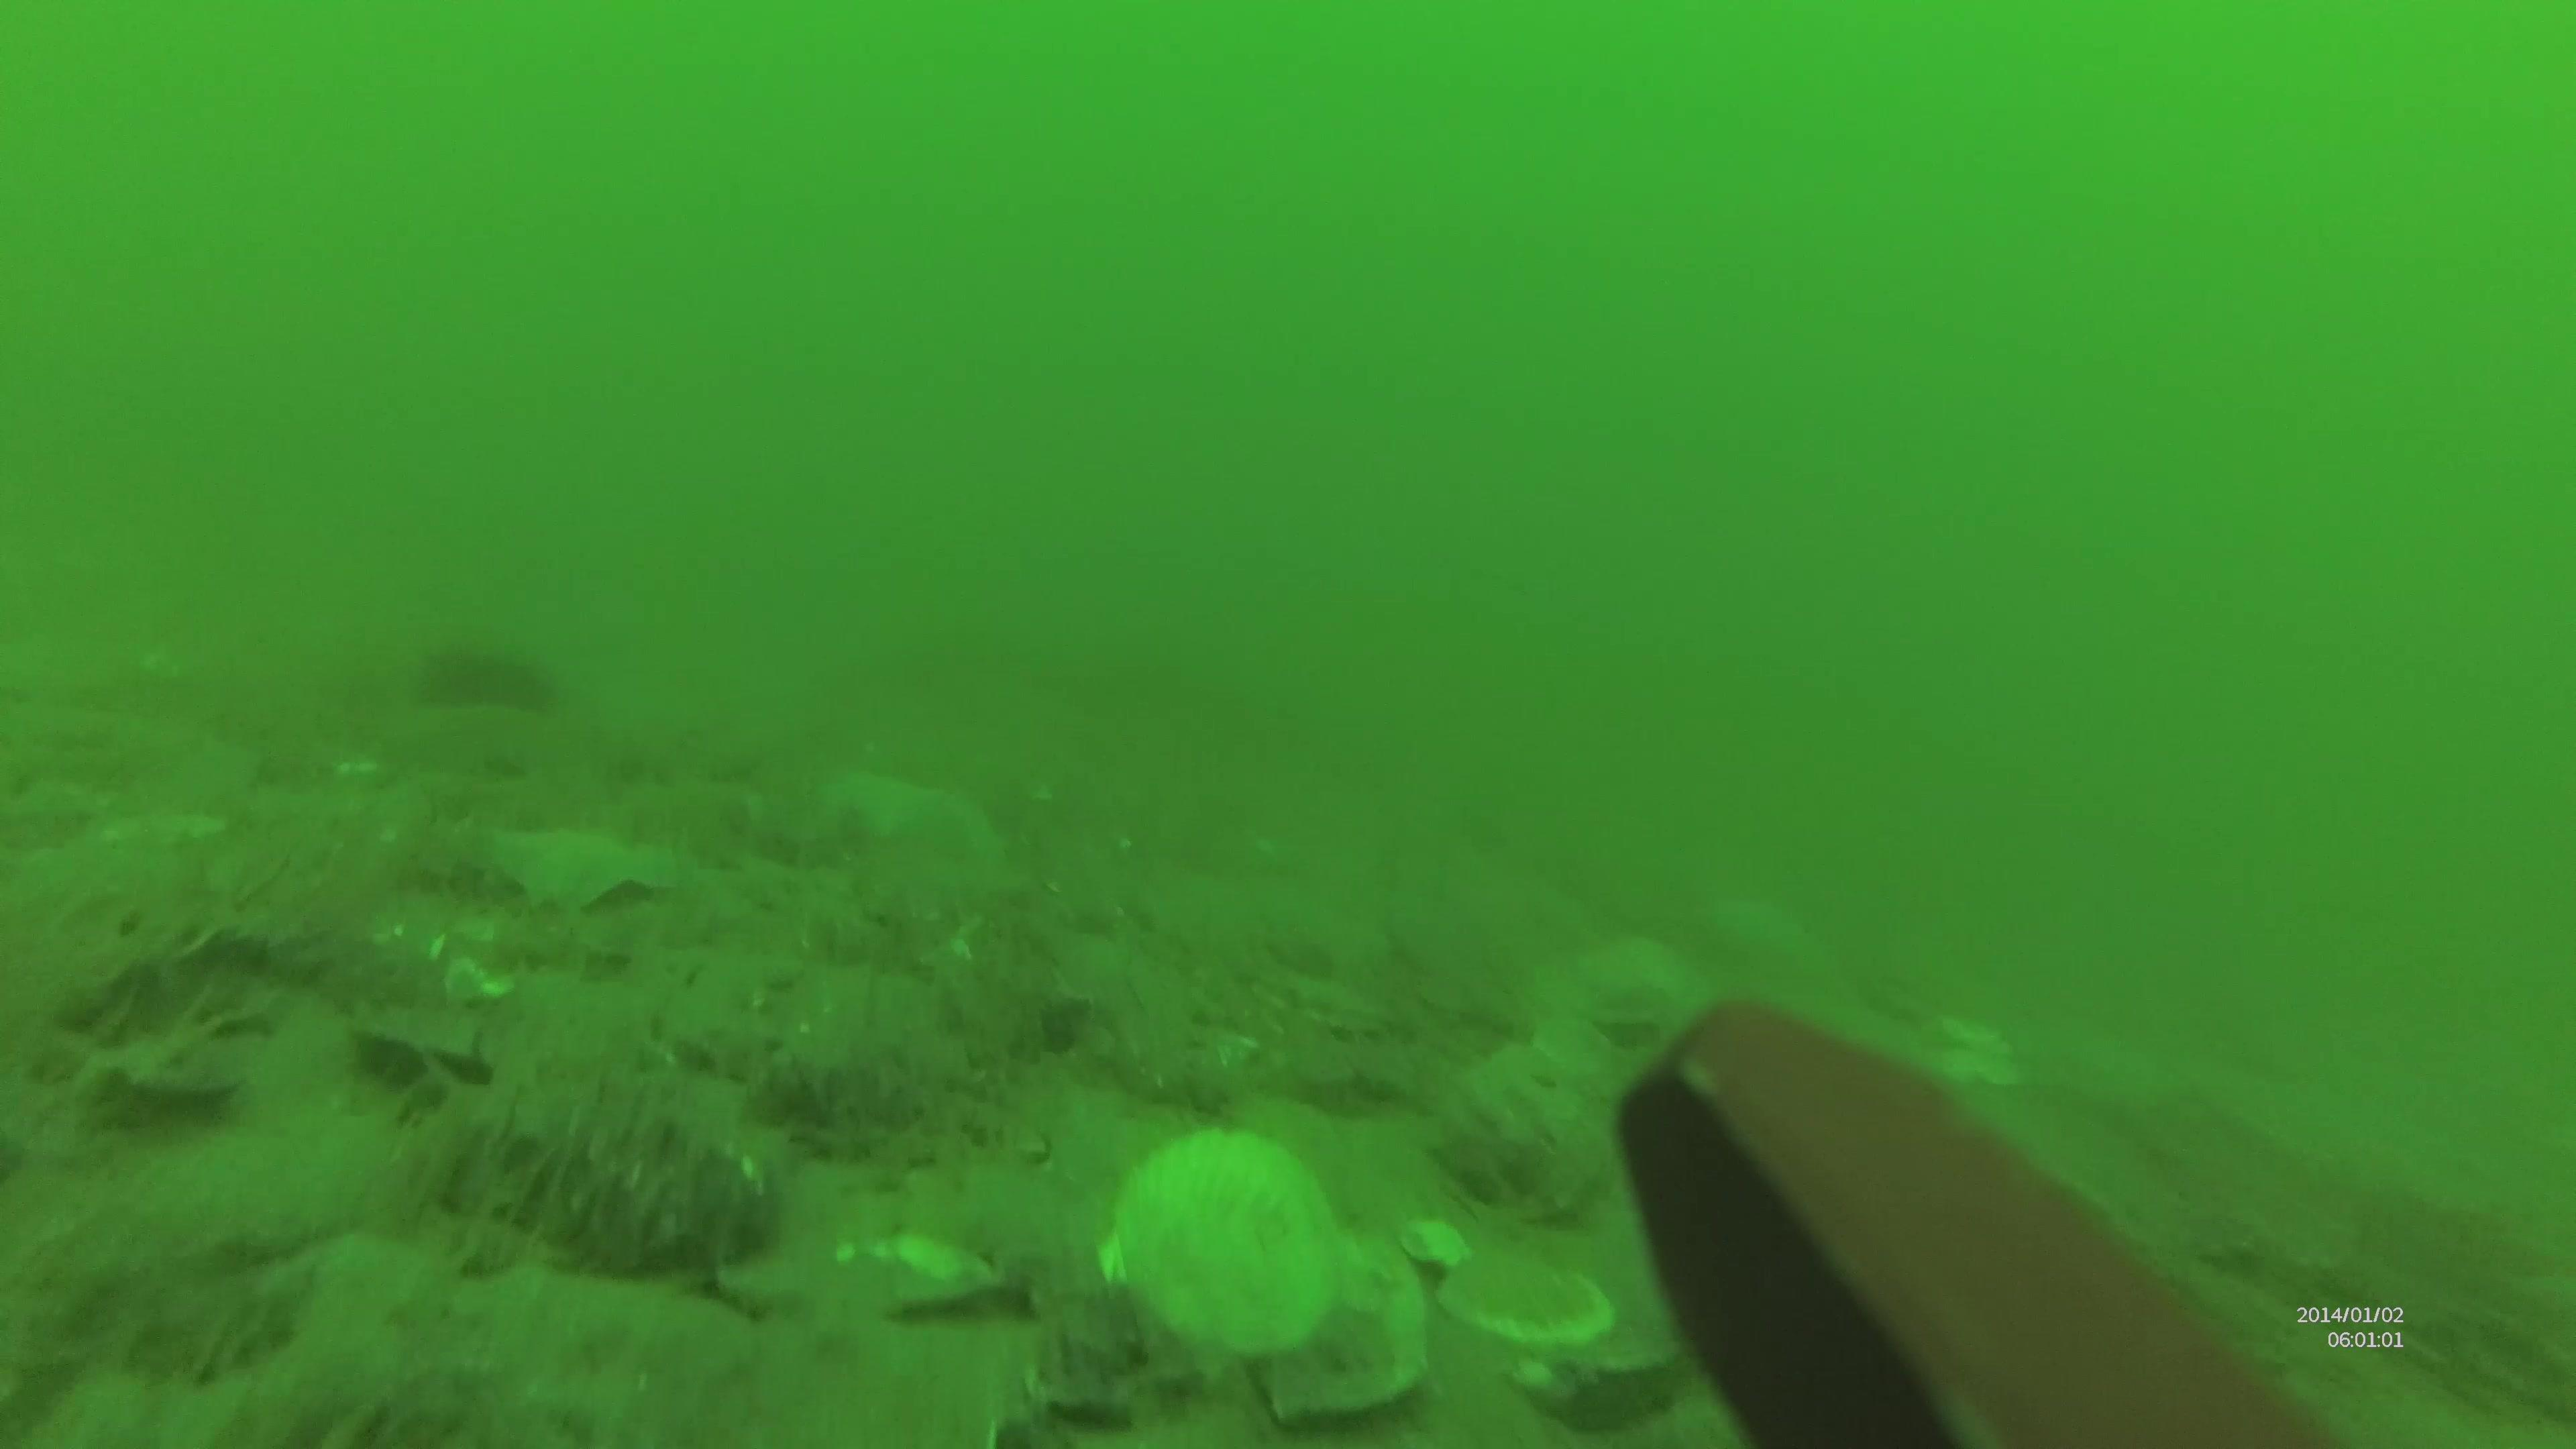scallop: (1095, 1134, 1334, 1382), (1444, 1251, 1612, 1352)
starfish: (488, 823, 674, 920)
